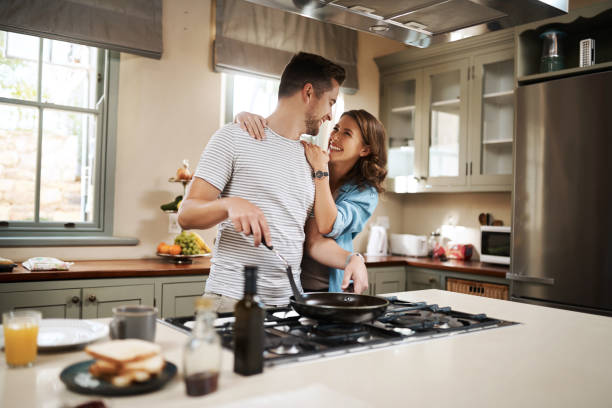without mask: (278, 71, 345, 137), (319, 119, 376, 166)
